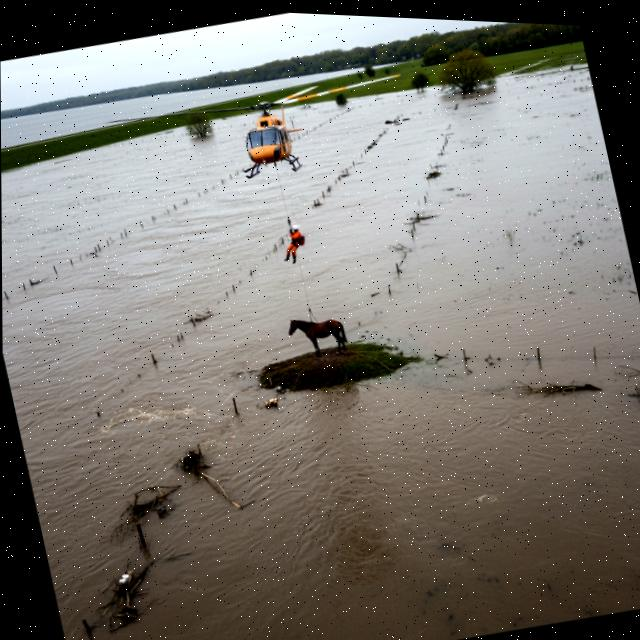horse: (278, 301, 363, 370)
rescuer: (276, 213, 312, 270)
